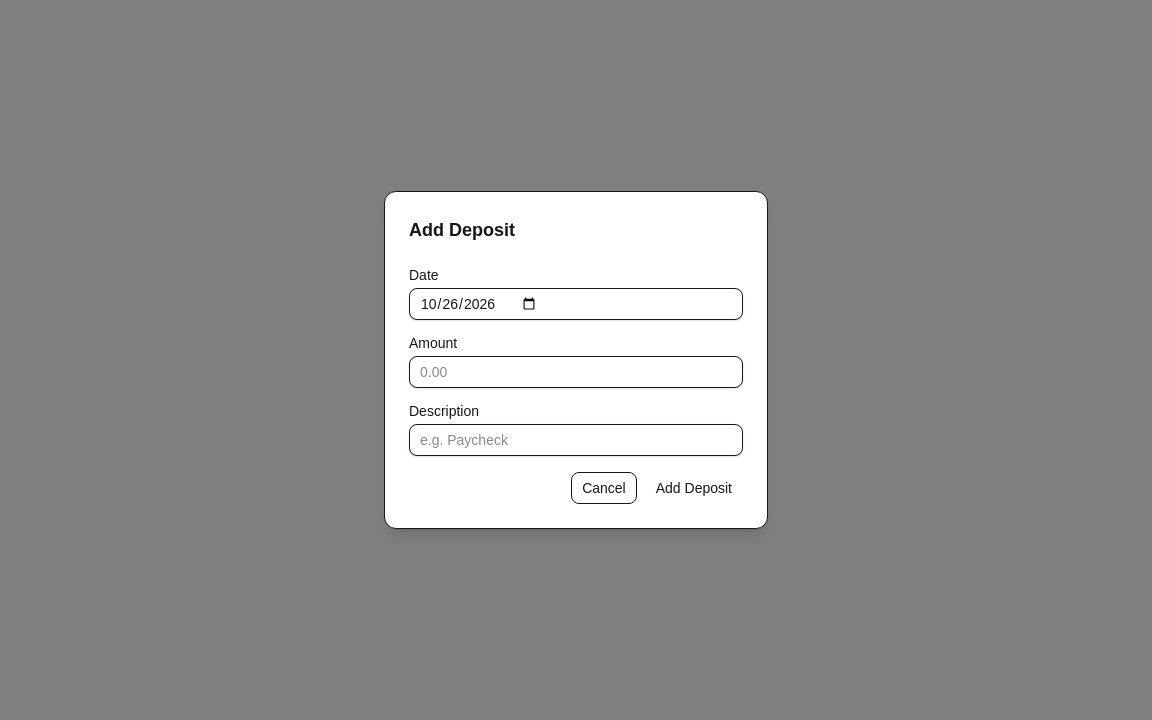
AddDepositDialog › Criterion 4: Validation — amount positive, description non-empty › shows amount invalid error when amount is zero
Step 1. Type "0" into the number field labelled "Amount" → [576, 372], box x1=409 y1=356 x2=743 y2=388
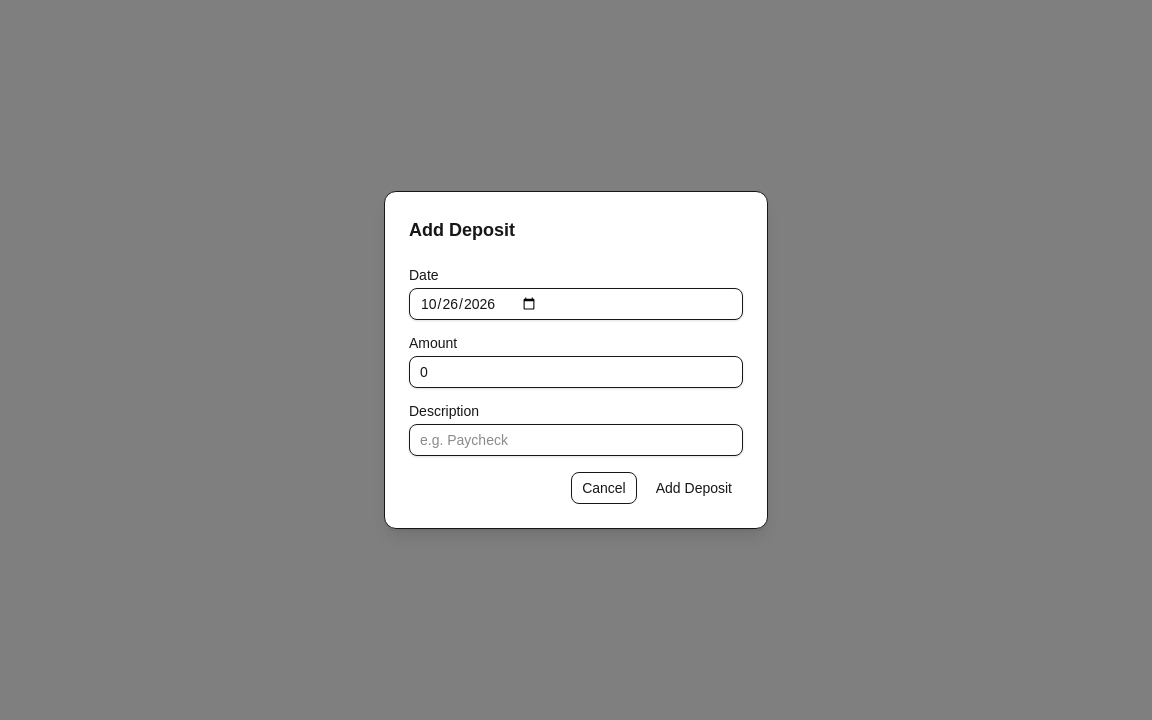
Step 2. Type "Test" into the field labelled "Description" → [576, 440], box x1=409 y1=424 x2=743 y2=456
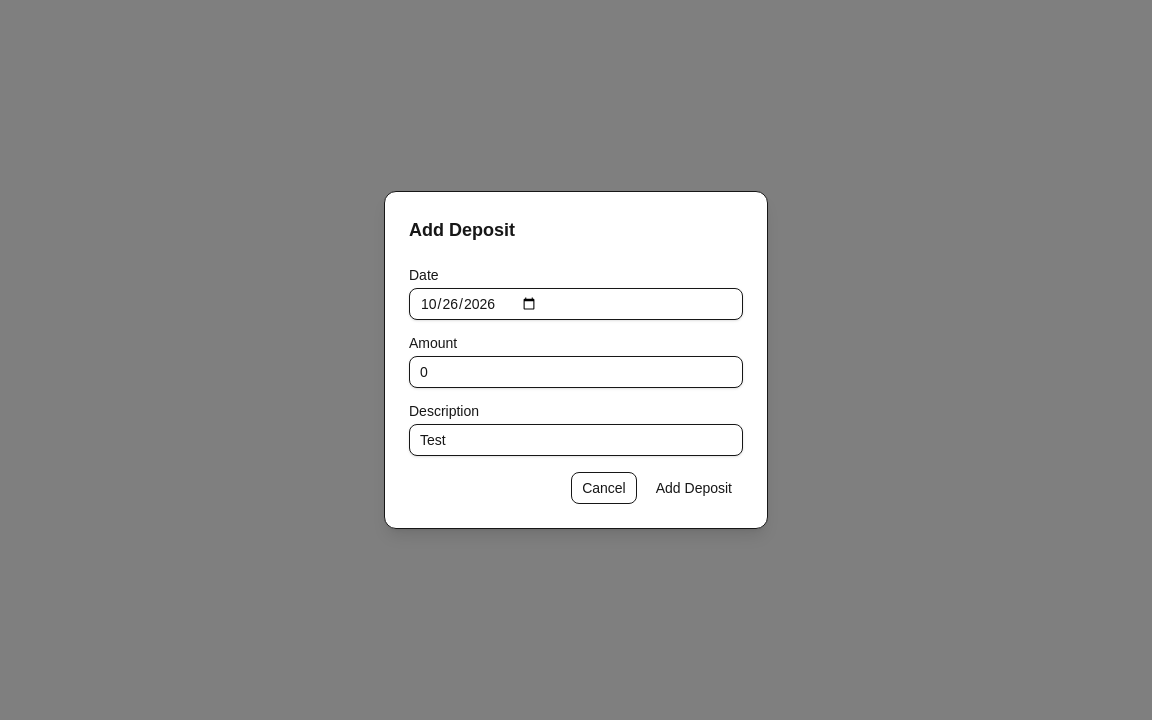
Step 3. Submit the form, box x1=409 y1=260 x2=743 y2=504
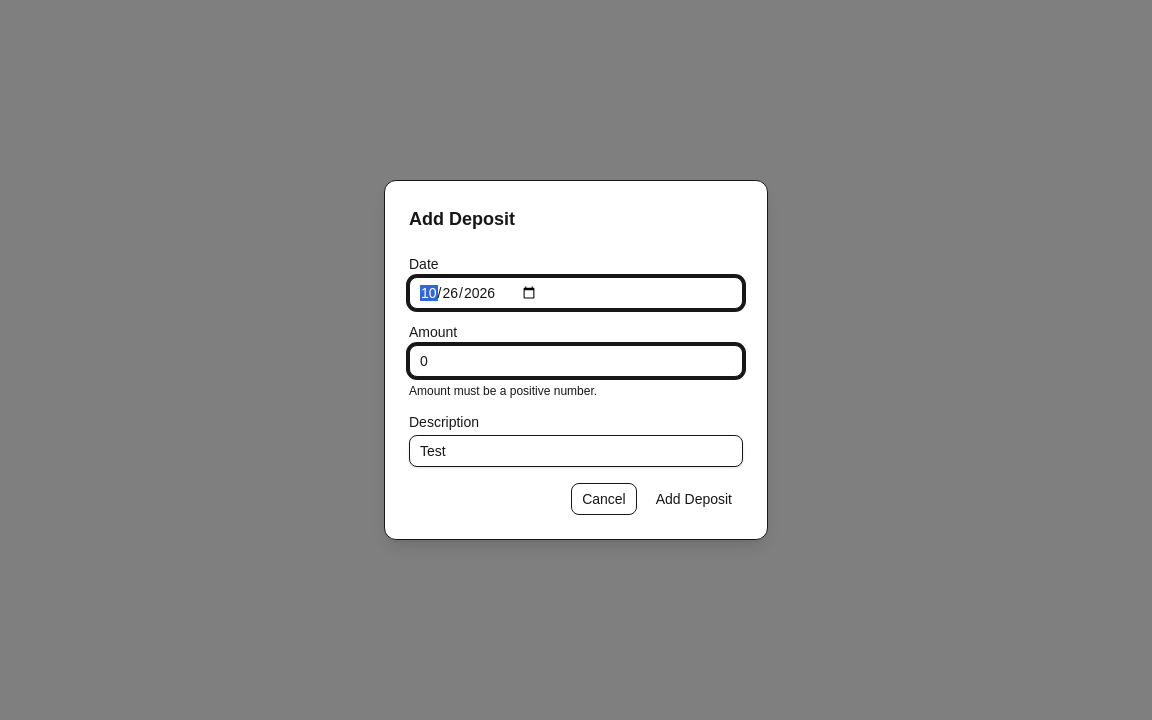
Expected: the text "Amount must be a positive number." is shown, x1=409 y1=384 x2=597 y2=398
